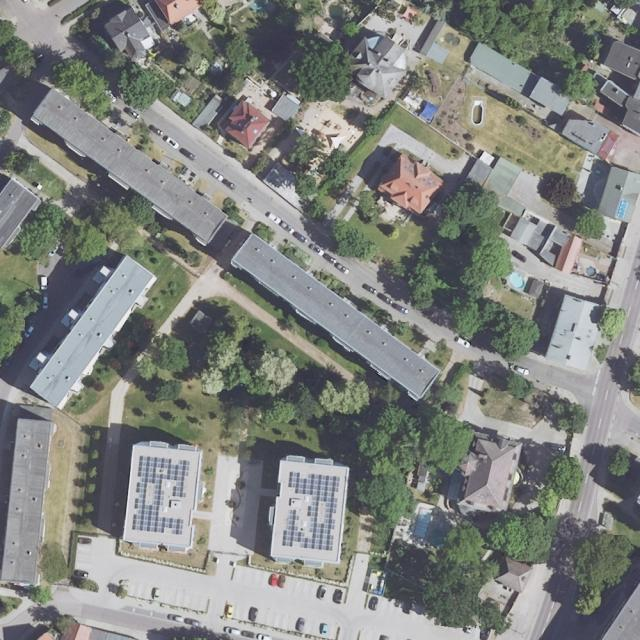PV: (282, 472, 341, 550), (132, 467, 183, 535), (139, 456, 190, 497)
ST: (617, 200, 628, 219)
